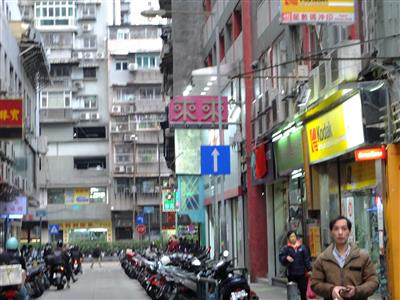oneway: (198, 142, 232, 177)
